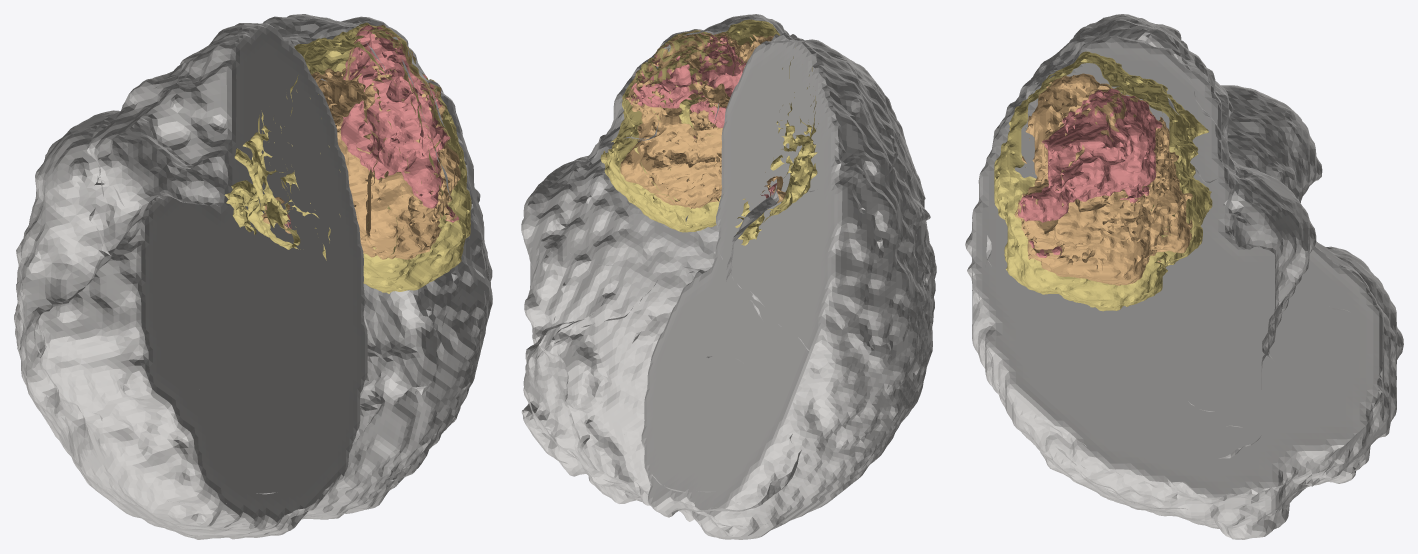
The picture shows the model from 3 angles, left to right: view 1: azimuth 30°, elevation 25°; view 2: azimuth 150°, elevation 25°; view 3: azimuth 270°, elevation 25°; orthographic projection. The views are drawn at different scales.
Parts seen in each view (by area): view 1: brain_left, brain_right, edema, core, enhancing; view 2: brain_left, brain_right, core, edema, enhancing; view 3: brain_right, core, edema, brain_left, enhancing.
Boxes of the visible parts, x1,y1,x2,y2 form: brain_left: (14, 23, 367, 539); brain_right: (263, 14, 492, 519); edema: (224, 22, 471, 293); core: (261, 24, 460, 259); enhancing: (266, 25, 458, 228); brain_left: (641, 32, 936, 539); brain_right: (521, 14, 796, 521); core: (604, 30, 786, 208); edema: (600, 19, 818, 245); enhancing: (626, 32, 777, 198); brain_right: (965, 35, 1396, 539); core: (1014, 73, 1192, 285); edema: (994, 51, 1212, 311); brain_left: (972, 14, 1403, 379); enhancing: (1018, 88, 1162, 257).
Bounding box in the file's own units: 130 × 156 × 130.
